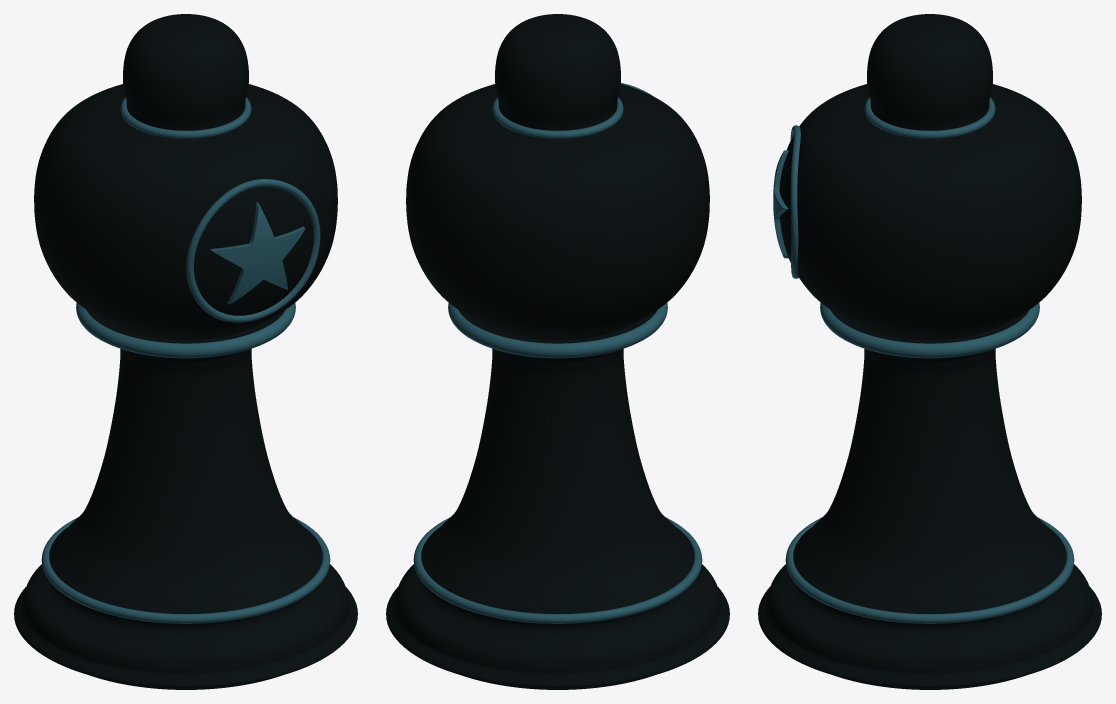
The model's file is General.obj.
3 views of the same model, side by side, from view 1: azimuth 30°, elevation 25°; view 2: azimuth 150°, elevation 25°; view 3: azimuth 270°, elevation 25° (orthographic).
Parts seen in each view (by area): view 1: base, upper_body, base_bead, collar_bead, medallion_star, medallion_ring, neck_bead, collar_disc; view 2: base, upper_body, base_bead, collar_bead, neck_bead, collar_disc; view 3: base, upper_body, base_bead, collar_bead, neck_bead, medallion_ring, collar_disc, medallion_star.
Part boxes in pixels (x1,y1,x2,y2): base: [14, 349, 357, 687]; upper_body: [34, 14, 337, 339]; base_bead: [41, 517, 330, 623]; collar_bead: [76, 303, 295, 358]; medallion_star: [210, 202, 305, 304]; medallion_ring: [186, 179, 320, 322]; neck_bead: [120, 97, 251, 138]; collar_disc: [86, 310, 285, 343]; base: [386, 349, 729, 687]; upper_body: [406, 14, 709, 339]; base_bead: [413, 517, 702, 623]; collar_bead: [448, 303, 667, 358]; neck_bead: [492, 97, 623, 138]; collar_disc: [458, 310, 657, 343]; base: [758, 349, 1101, 687]; upper_body: [779, 14, 1081, 339]; base_bead: [785, 517, 1074, 623]; collar_bead: [820, 303, 1039, 358]; neck_bead: [864, 97, 995, 138]; medallion_ring: [790, 125, 800, 278]; collar_disc: [830, 310, 1029, 343]; medallion_star: [773, 150, 788, 258].
Size of the model in its own units: 0.0488 by 0.0943 by 0.0488.
